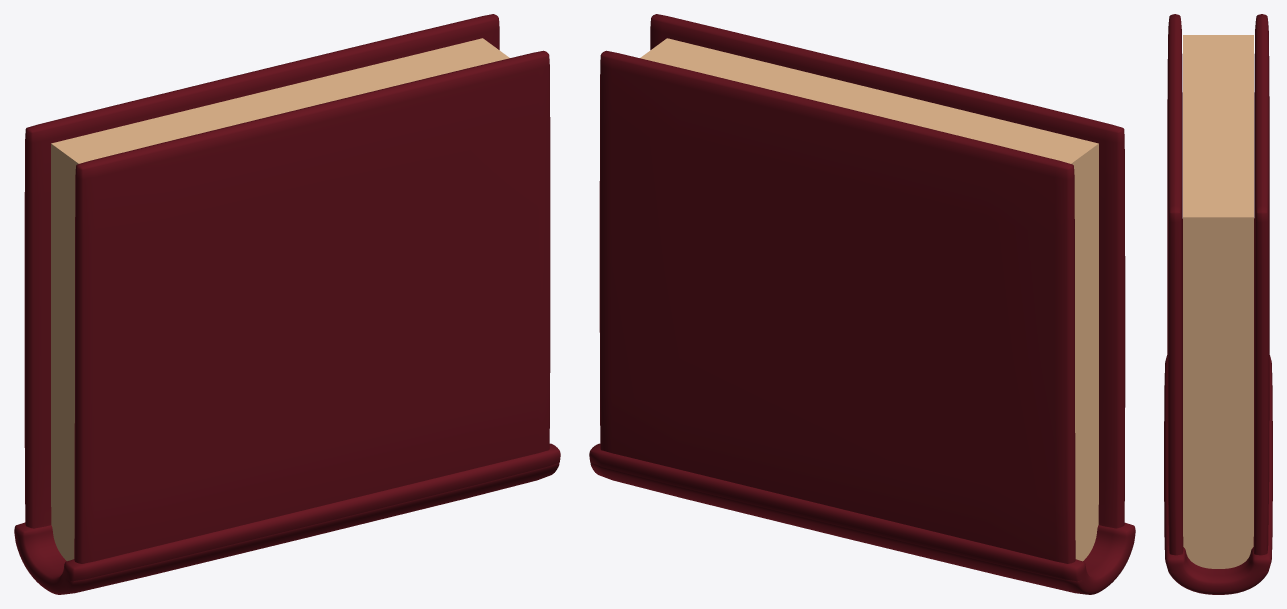
File: manual.fbx
The picture shows the model from 3 angles, left to right: view 1: azimuth 30°, elevation 25°; view 2: azimuth 150°, elevation 25°; view 3: azimuth 270°, elevation 25°; orthographic projection. The views are drawn at different scales.
Visible parts, largest first — view 1: manual_cover, manual_pages, manual_spline; view 2: manual_cover, manual_pages, manual_spline; view 3: manual_pages, manual_cover, manual_spline.
Part boxes in pixels (bbox=[...]): manual_cover: bbox=[24, 14, 550, 563]; manual_pages: bbox=[51, 38, 509, 561]; manual_spline: bbox=[14, 443, 560, 594]; manual_cover: bbox=[599, 14, 1125, 563]; manual_pages: bbox=[640, 38, 1098, 561]; manual_spline: bbox=[589, 443, 1135, 594]; manual_pages: bbox=[1183, 35, 1253, 568]; manual_cover: bbox=[1167, 14, 1269, 555]; manual_spline: bbox=[1164, 355, 1272, 594].
Bounding box in the file's own units: 193 × 167 × 42.96.
